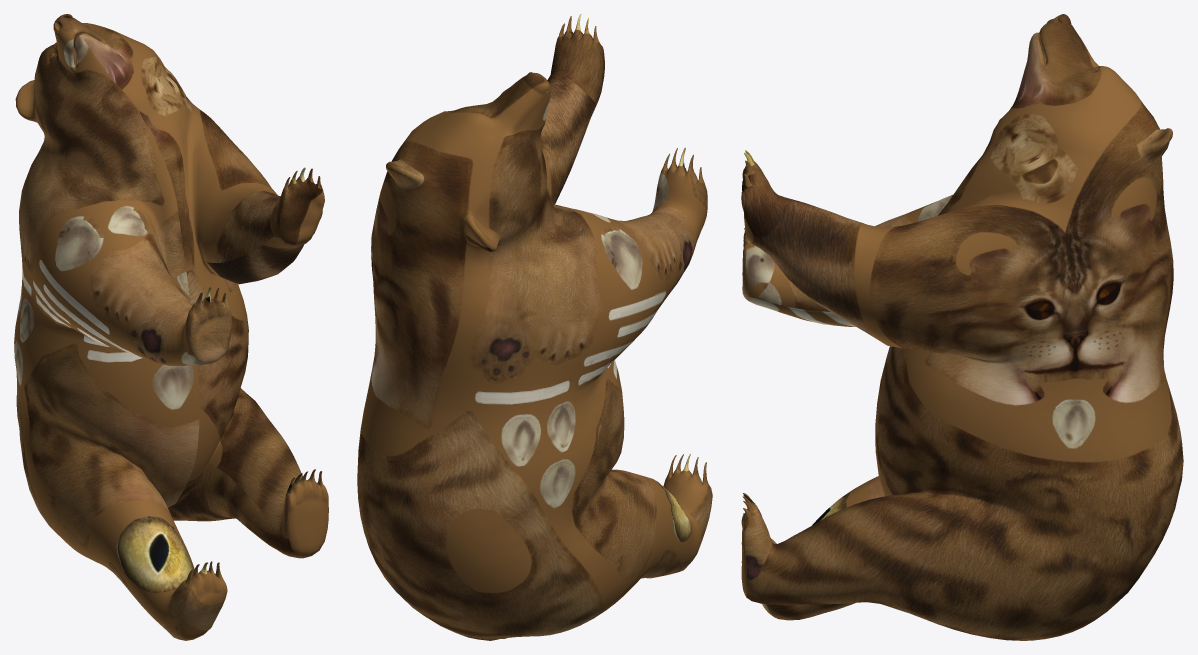
File: piso.fbx
3 renders of one model, left to right at view 1: azimuth 30°, elevation 25°; view 2: azimuth 150°, elevation 25°; view 3: azimuth 270°, elevation 25°, orthographic. The views are drawn at different scales.
Parts seen in each view (by area): view 1: node_id30; view 2: node_id30; view 3: node_id30.
Part boxes in pixels (<box>): node_id30: <box>14,14,328,640</box>; node_id30: <box>357,14,712,640</box>; node_id30: <box>741,14,1183,640</box>.
Bounding box in the file's own units: 1181 × 1777 × 696.
